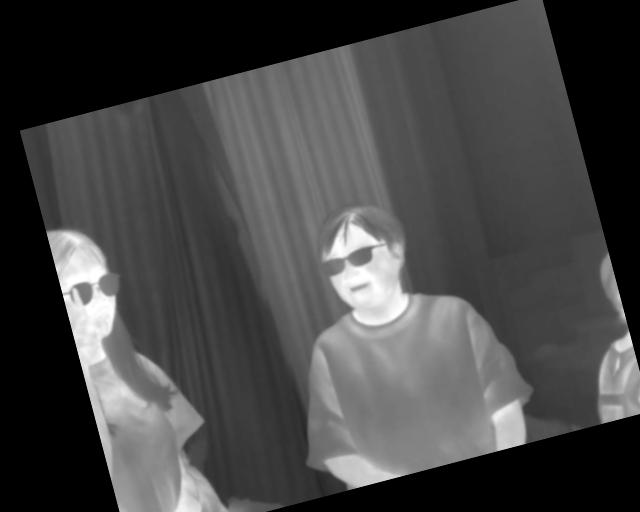face: (308, 191, 421, 318), (45, 217, 128, 345)
